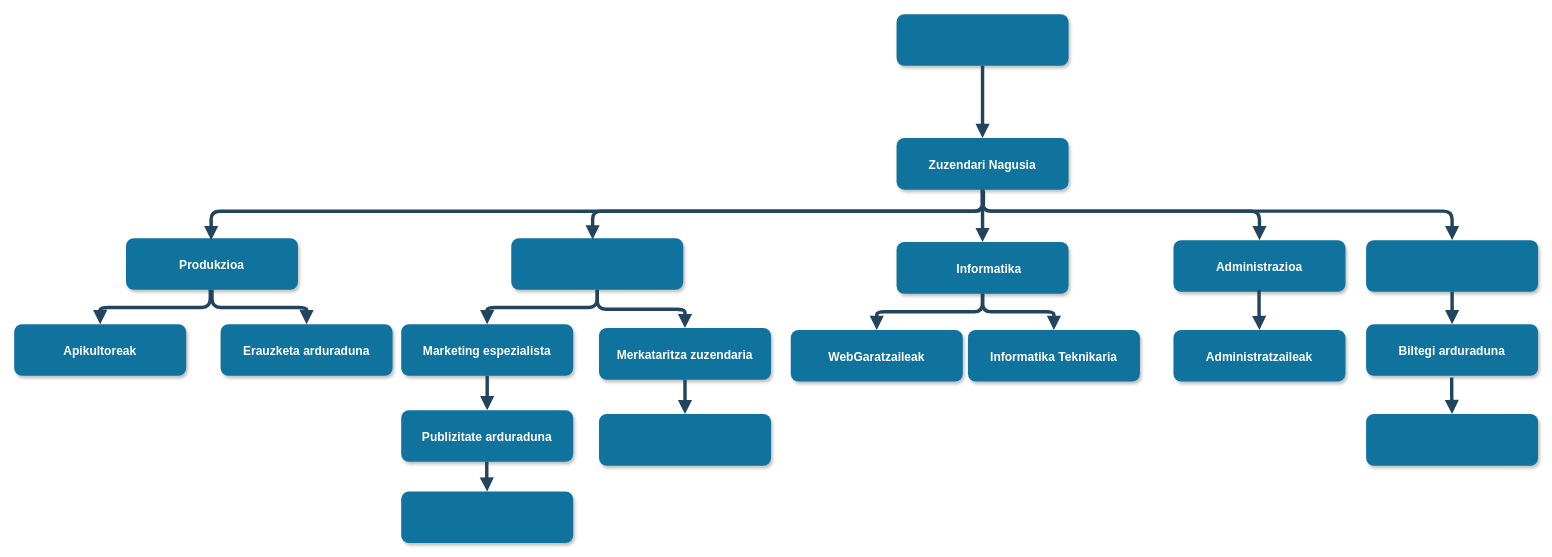
This 1552x557 diagram has some shape labels left out. Each missing label, with the centre of its shape:
Banaketa arduraduna: the point at 1452,440
Logistika: the point at 1452,266
Marketing eta salmentak: the point at 597,264
Nagusia: the point at 983,40
Salmenta ordezkaria: the point at 685,440
SareSozialak: the point at 487,518
